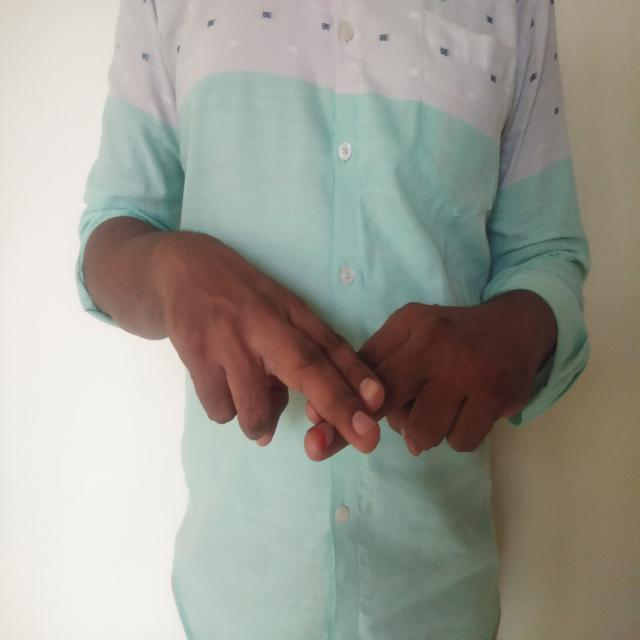F: (149, 215, 550, 484)
